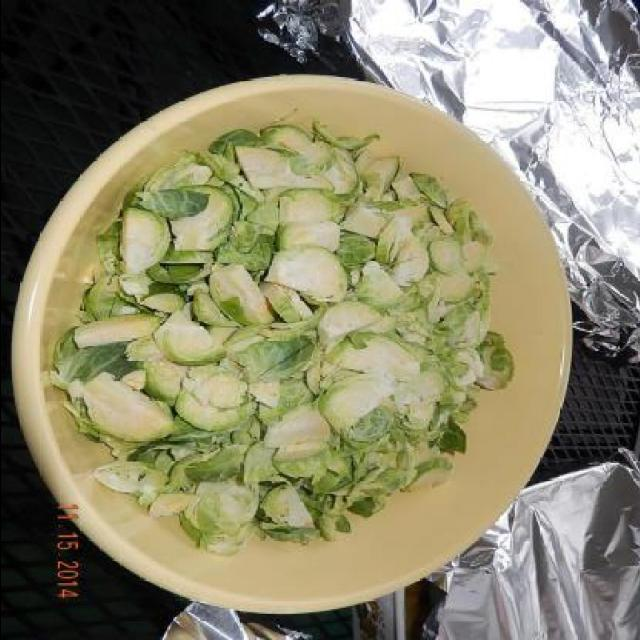Zucchini: (49, 116, 514, 558)
